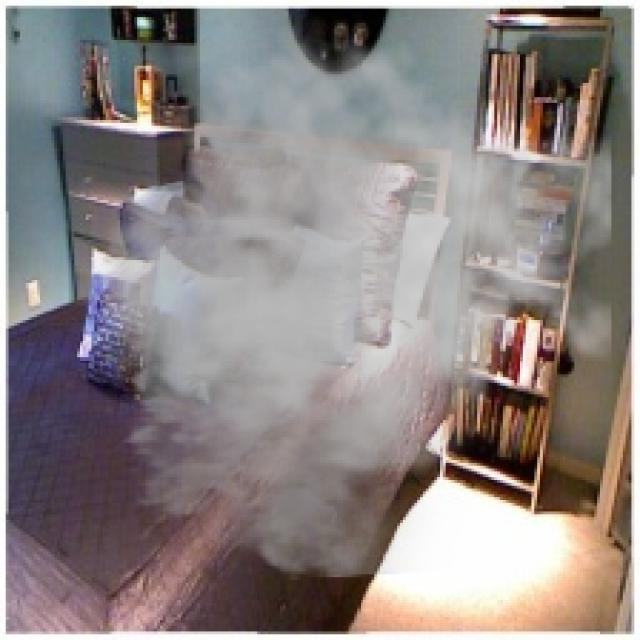Smoke: (51, 20, 612, 580)
